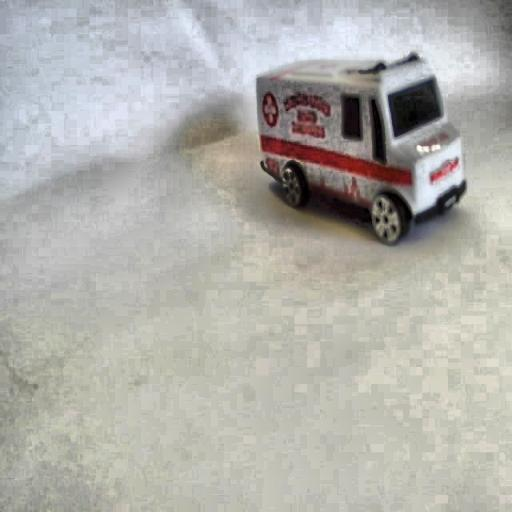ambulance: (256, 52, 466, 246)
